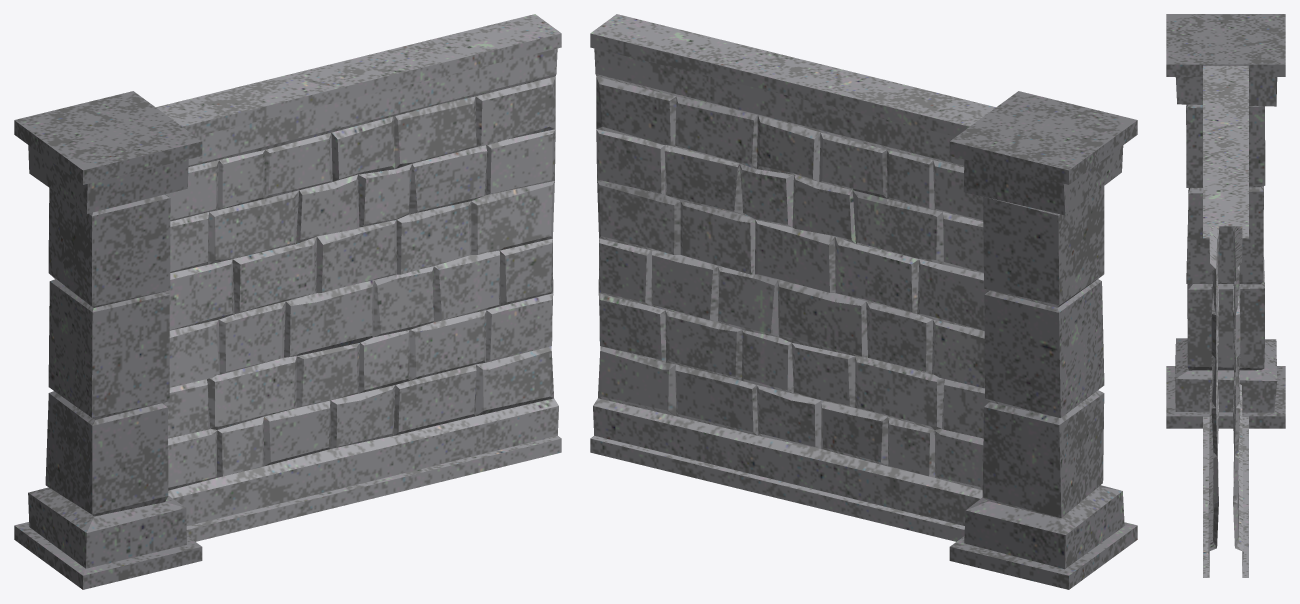
The model's file is wall_stone_with_cloumn_1.glb.
3 views of the same model, side by side, from view 1: azimuth 30°, elevation 25°; view 2: azimuth 150°, elevation 25°; view 3: azimuth 270°, elevation 25° (orthographic). The views are drawn at different scales.
Parts seen in each view (by area): view 1: Wall; view 2: Wall; view 3: Wall.
Part boxes in pixels (x1=…): Wall: x1=14, y1=14, x2=561, y2=589; Wall: x1=590, y1=14, x2=1137, y2=589; Wall: x1=1166, y1=14, x2=1285, y2=577.
Size of the model in its own units: 3.76 by 3 by 0.8931.
2 materials, 2 textured.
